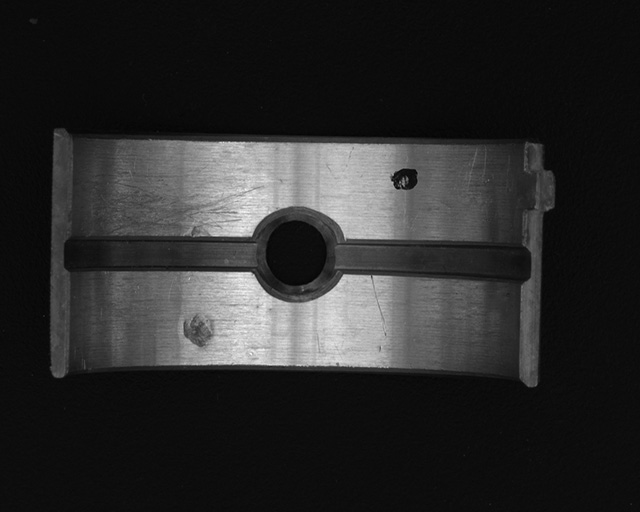blot: (390, 167, 419, 191)
bruise: (182, 312, 215, 348)
gap: (328, 239, 532, 285), (64, 235, 262, 275)
hole: (252, 209, 339, 302)
nick: (371, 275, 388, 338)
scratch: (74, 168, 266, 238)
